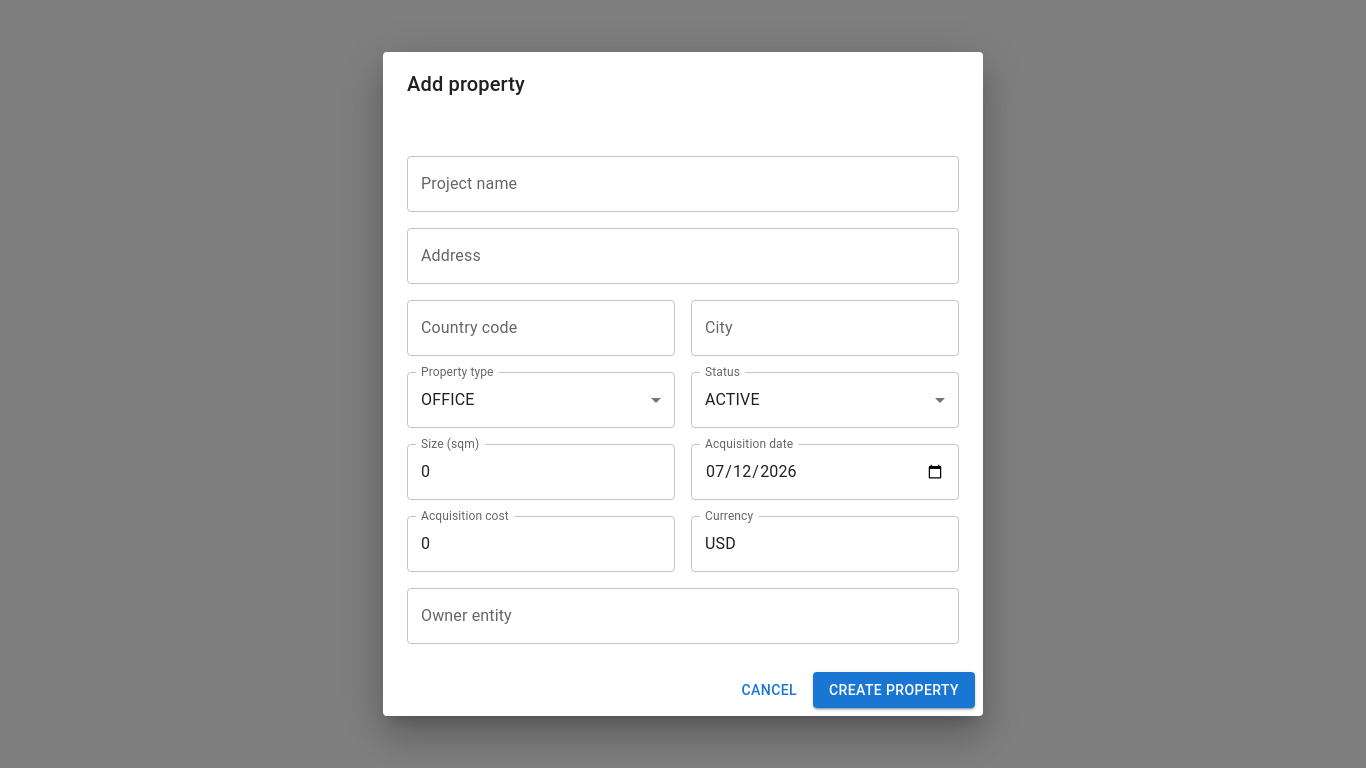
Test case: PropertyFormModal › shows required-field validation errors and does not submit
Click the button "Create property". click: [894, 690]
box: [813, 672, 975, 708]
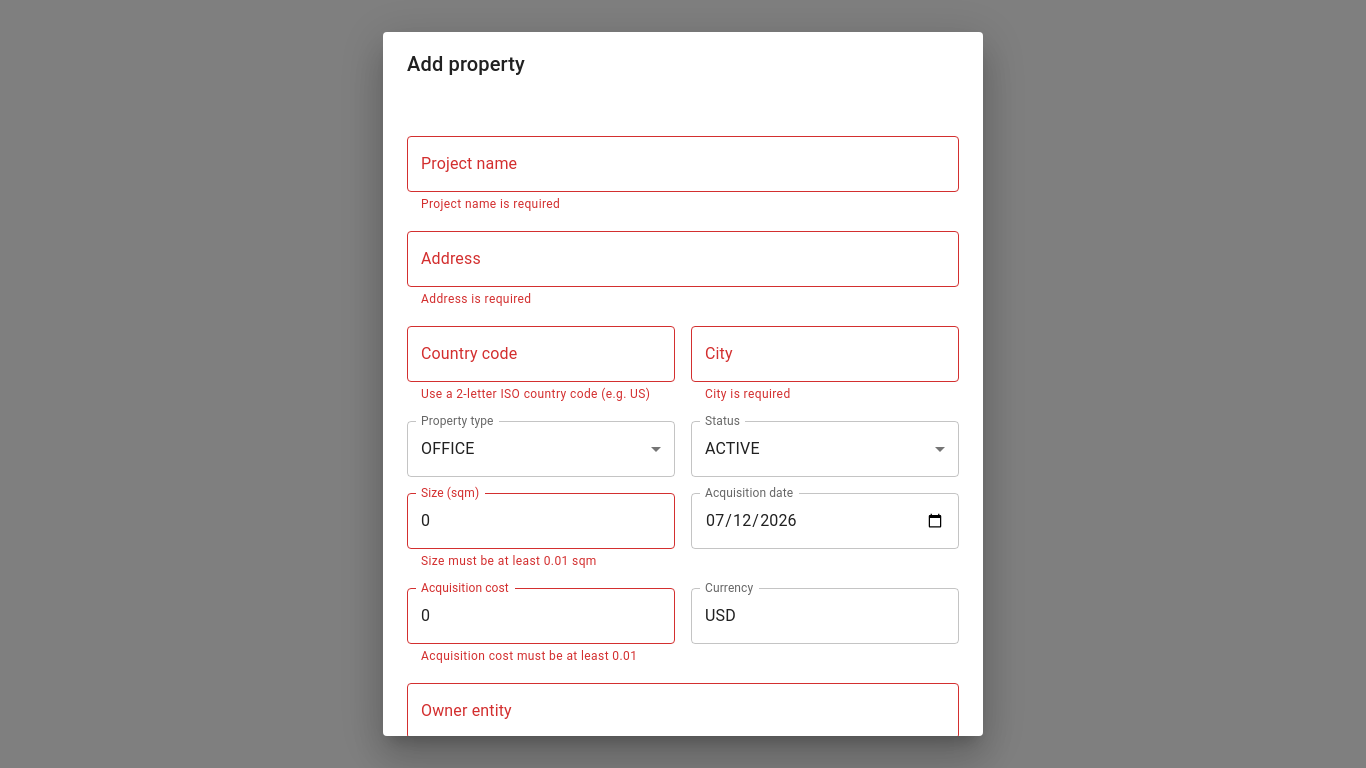
Check: the text "Project name is required" is shown, box [421, 197, 560, 211]
Check: the text "Use a 2-letter ISO country code (e.g. US)" is shown, box [421, 385, 661, 405]
Check: the text "City is required" is shown, box [705, 387, 791, 401]
